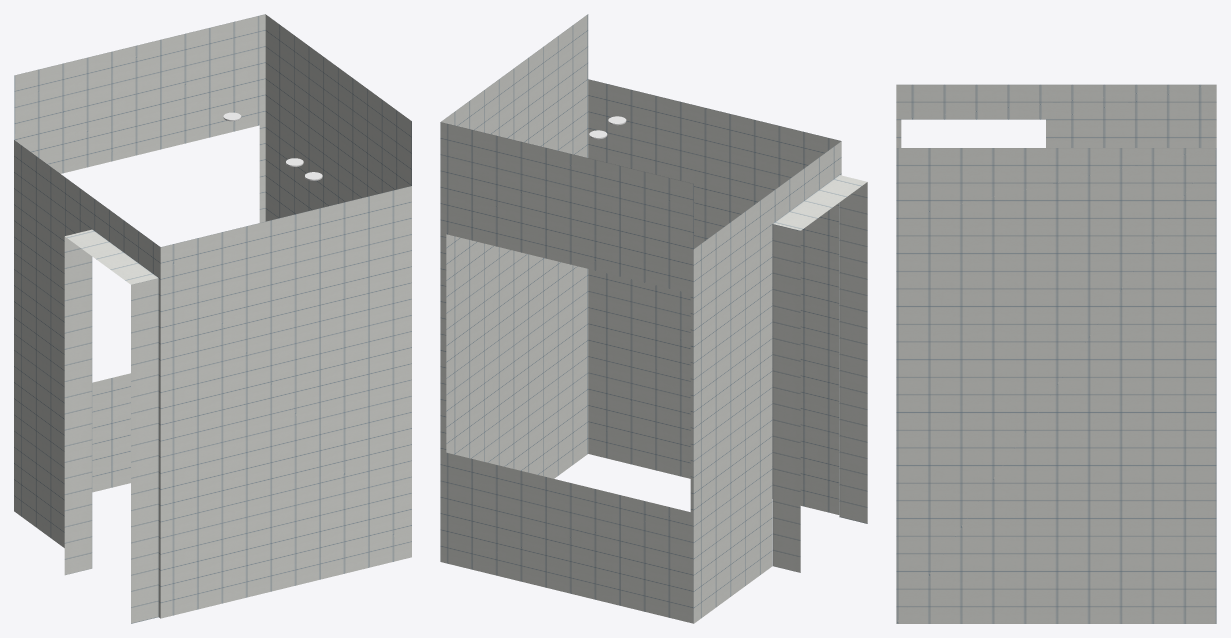
Rendered from bath wall.fbx.
3 renders of one model, left to right at view 1: azimuth 30°, elevation 25°; view 2: azimuth 150°, elevation 25°; view 3: azimuth 270°, elevation 25°, orthographic. The views are drawn at different scales.
Parts seen in each view (by area): view 1: Group_500, Object606464, Group_504, Object606533; view 2: Group_500, Object606464, Group_504, Object606533; view 3: Group_500.
Part boxes in pixels (bbox=[...]): Group_500: bbox=[14, 14, 411, 618]; Object606464: bbox=[14, 14, 265, 492]; Group_504: bbox=[64, 229, 157, 575]; Object606533: bbox=[131, 278, 158, 623]; Group_500: bbox=[440, 14, 841, 623]; Object606464: bbox=[440, 122, 693, 623]; Group_504: bbox=[772, 175, 867, 572]; Object606533: bbox=[839, 182, 867, 523]; Group_500: bbox=[896, 84, 1216, 623].
Size of the model in its own units: 1808 by 2700 by 1645.
3 materials, 1 textured.
